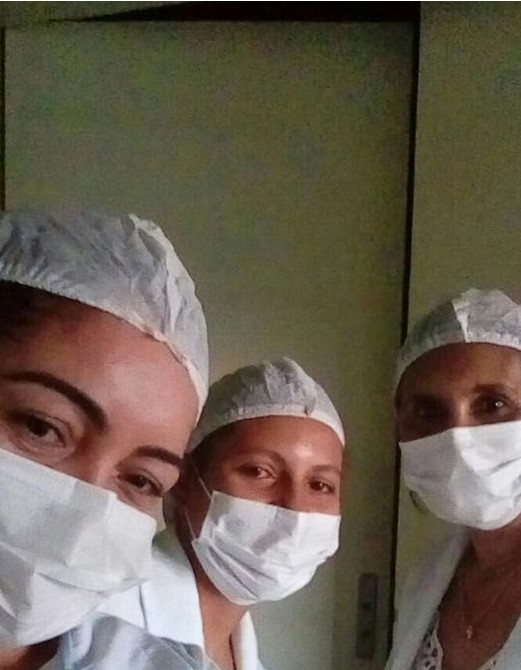face_with_mask: (0, 206, 207, 650), (194, 357, 347, 606), (389, 286, 520, 537)
